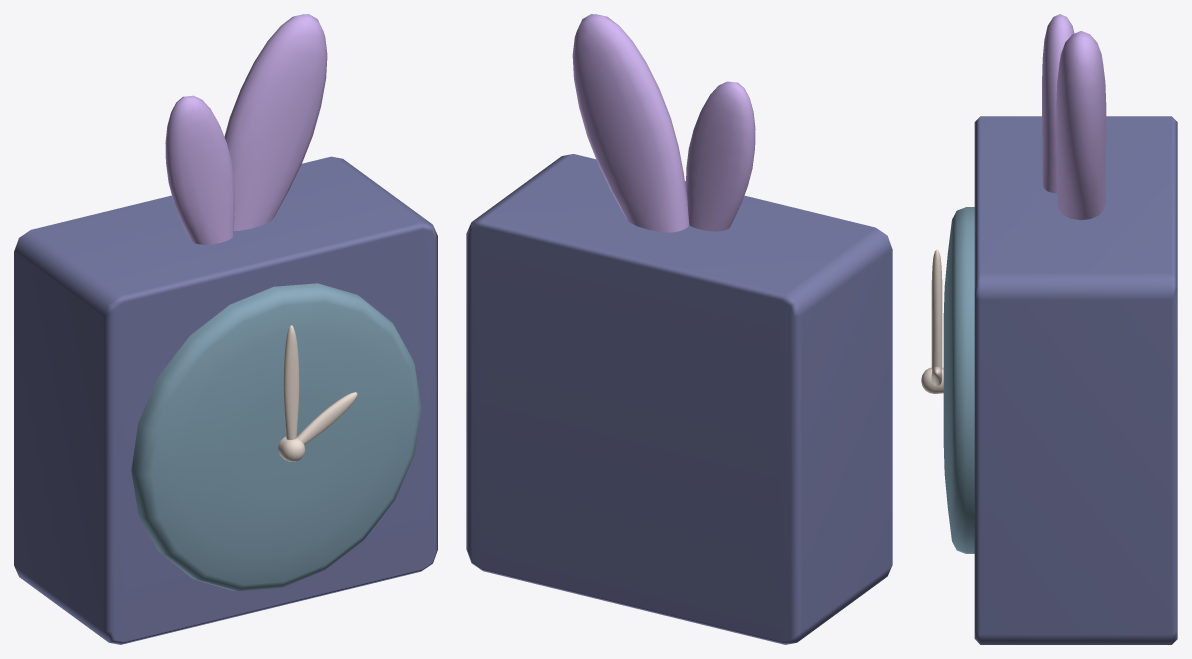
The model's file is Clock_1.glb.
The picture shows the model from 3 angles, left to right: view 1: azimuth 30°, elevation 25°; view 2: azimuth 150°, elevation 25°; view 3: azimuth 270°, elevation 25°; orthographic projection. The views are drawn at different scales.
Parts seen in each view (by area): view 1: Clock_1; view 2: Clock_1; view 3: Clock_1.
Part boxes in pixels (left/top/right/bottom): Clock_1: left=14, top=14, right=437, bottom=644; Clock_1: left=466, top=14, right=892, bottom=644; Clock_1: left=921, top=14, right=1177, bottom=644.
Bounding box in the file's own units: 0.3801 × 0.5871 × 0.2379.
1 material, 1 textured.
